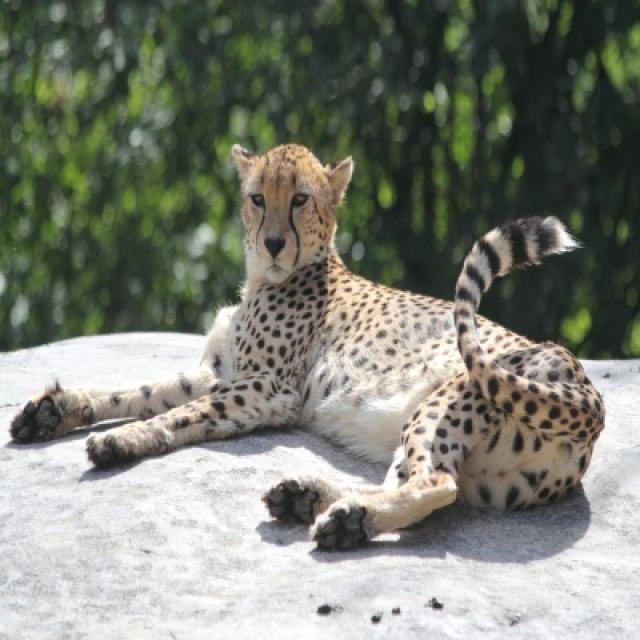Cheetah: (13, 141, 603, 567)
